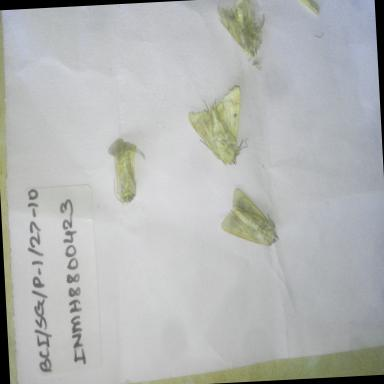abw: (184, 81, 252, 171), (217, 182, 282, 252), (211, 0, 270, 65), (104, 134, 148, 208)
